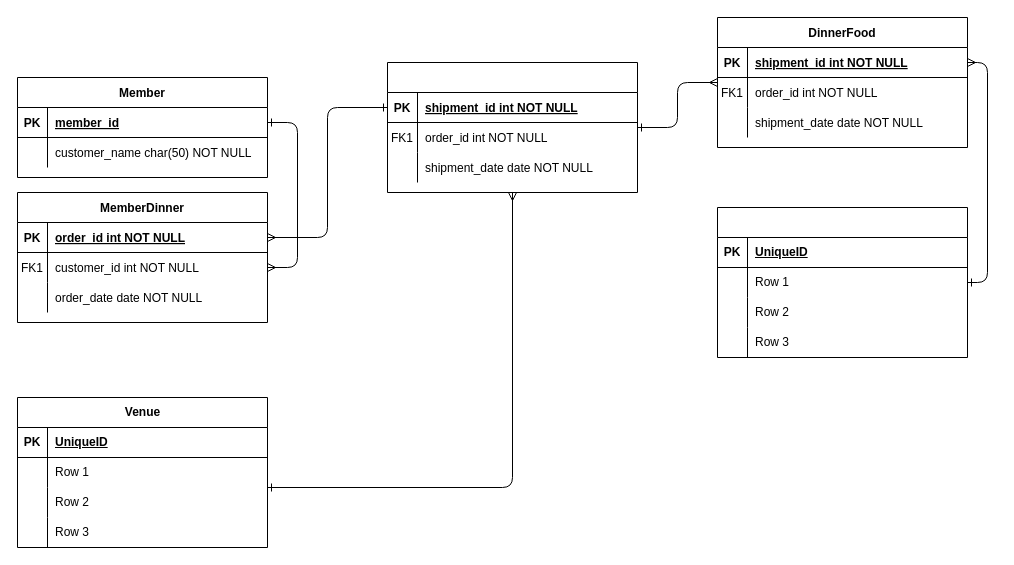
The diagram is 1014 pixels wide and 565 high, and some of its shapes have lost their labels. Each missing label, with the box of its shape:
Dinner: (386, 62, 638, 192)
Food: (716, 206, 968, 358)
